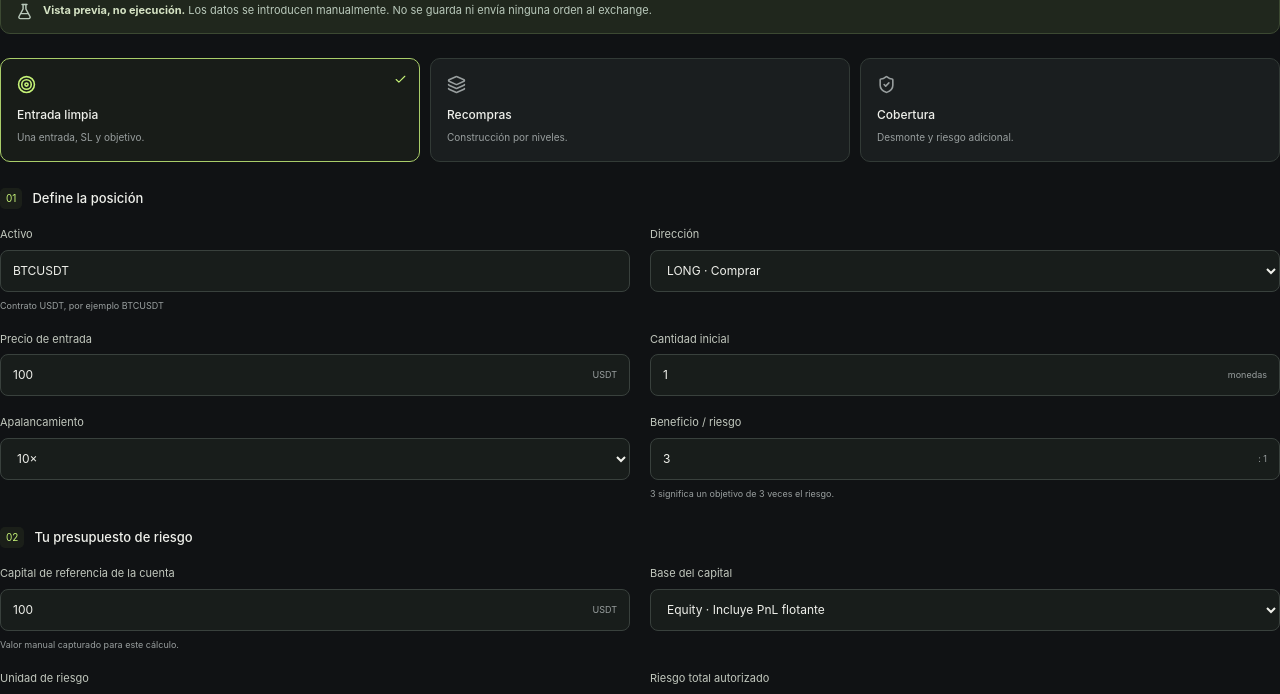
planner interaction › switches methodology and offers an editable hedge suggestion
Step 1. Click the button "Cobertura Desmonte y riesgo adicional." → coordinates (906, 114), box [860, 58, 1279, 162]
(page scrolled)
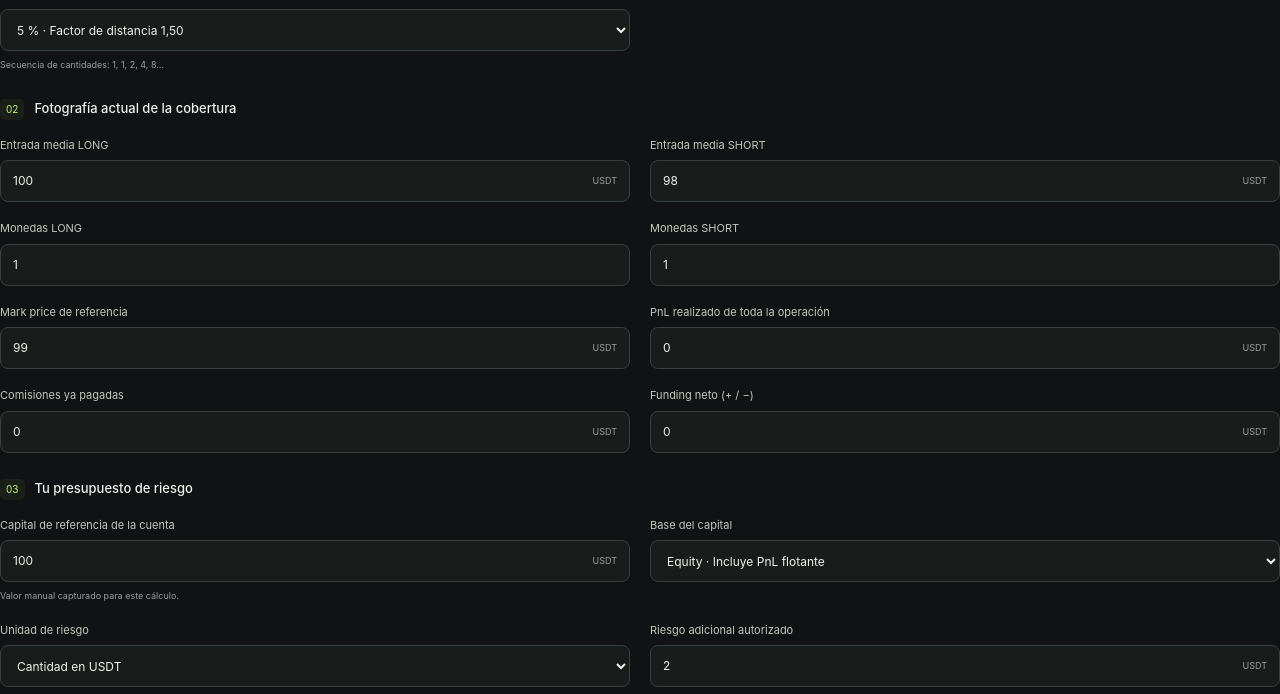
Expected: the field labelled "Riesgo adicional autorizado" holds "2", [650, 645, 1279, 687]
Step 2. Replace the text in the field labelled "PnL realizado de toda la operación" with "1" → coordinates (965, 348), box [650, 327, 1279, 369]
(page scrolled)
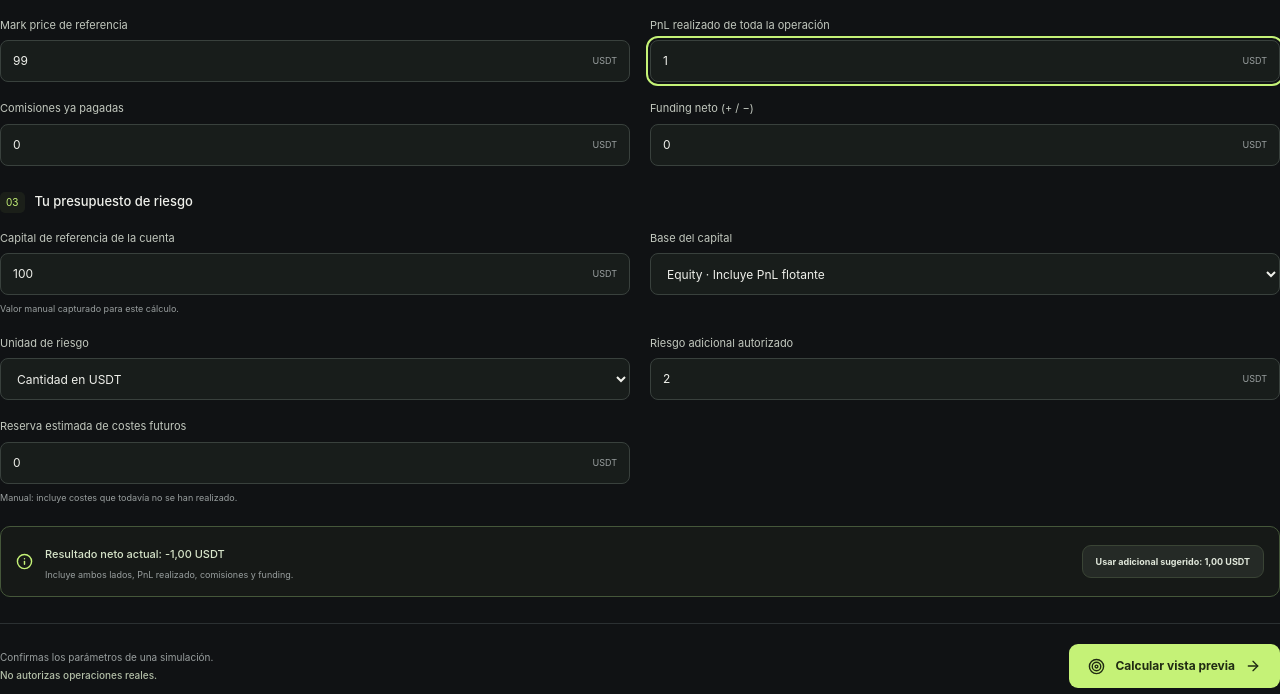
Step 3. Click the button "Usar adicional sugerido: 1,00 USDT" → coordinates (1173, 562), box [1082, 545, 1264, 578]
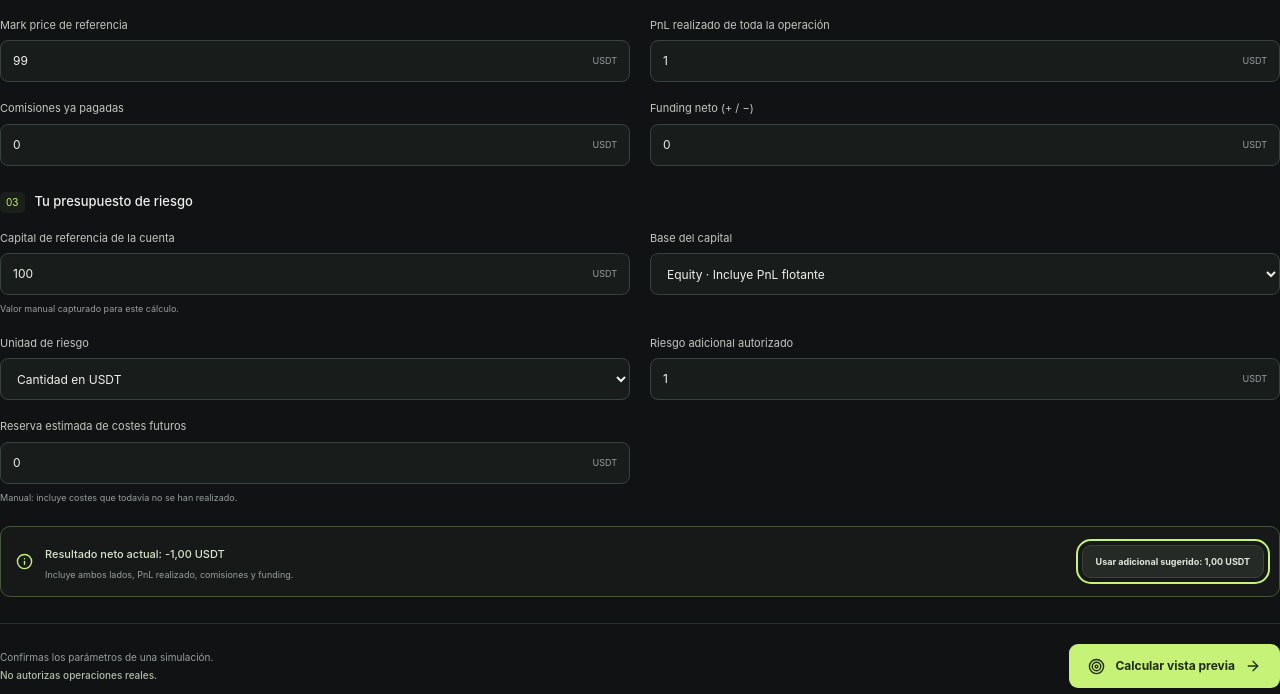
Result: the field labelled "Riesgo adicional autorizado" holds "1" at [650, 358, 1279, 400]
